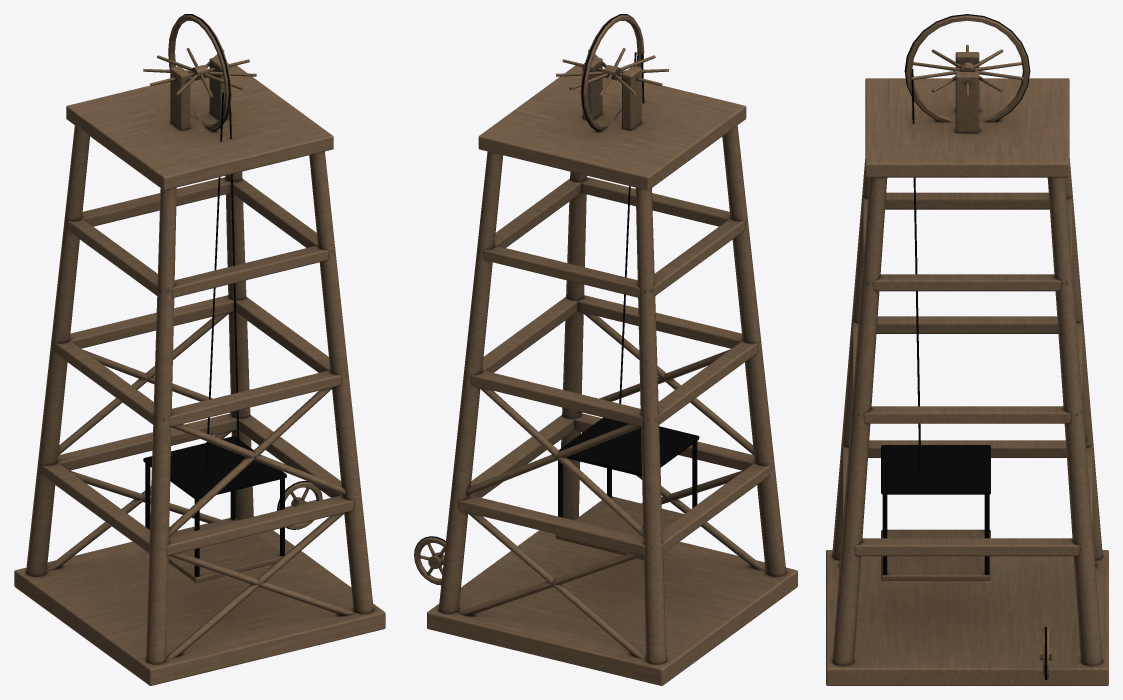
File: canion_elevador_mina.glb
3 views of the same model, side by side, from view 1: azimuth 30°, elevation 25°; view 2: azimuth 150°, elevation 25°; view 3: azimuth 270°, elevation 25° (orthographic). The views are drawn at different scales.
Parts seen in each view (by area): view 1: canion_elevador_mina_tronco; view 2: canion_elevador_mina_tronco; view 3: canion_elevador_mina_tronco.
Boxes of the visible parts, x1,y1,x2,y2 form: canion_elevador_mina_tronco: (14, 14, 385, 685); canion_elevador_mina_tronco: (414, 14, 797, 685); canion_elevador_mina_tronco: (826, 14, 1108, 685).
Bounding box in the file's own units: 4.25 × 8.61 × 3.6.
1 material, 1 textured.
